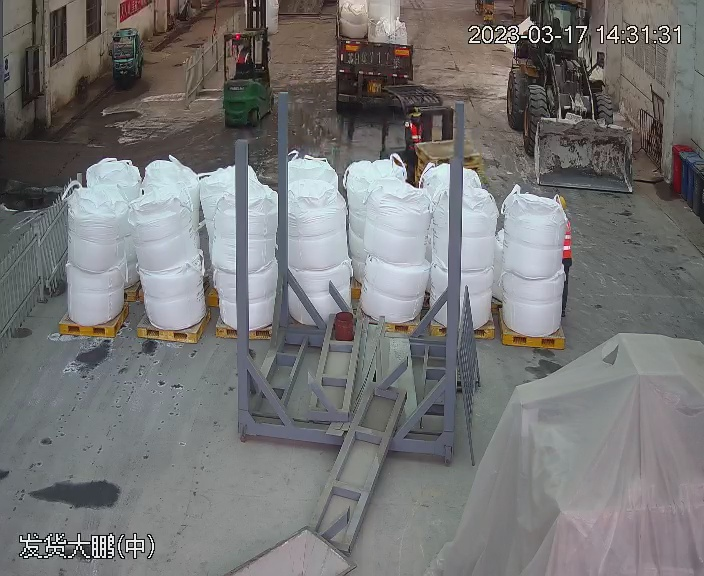truck: (333, 1, 416, 102)
